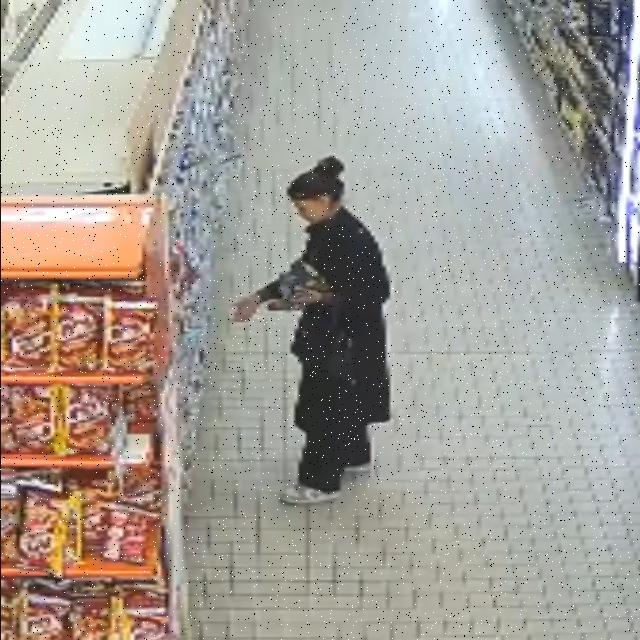article: (291, 261, 331, 293), (278, 270, 302, 302), (269, 299, 292, 311)
bags: (292, 308, 354, 380)
hands: (232, 294, 261, 322), (292, 289, 327, 308)
person: (281, 157, 390, 504)
